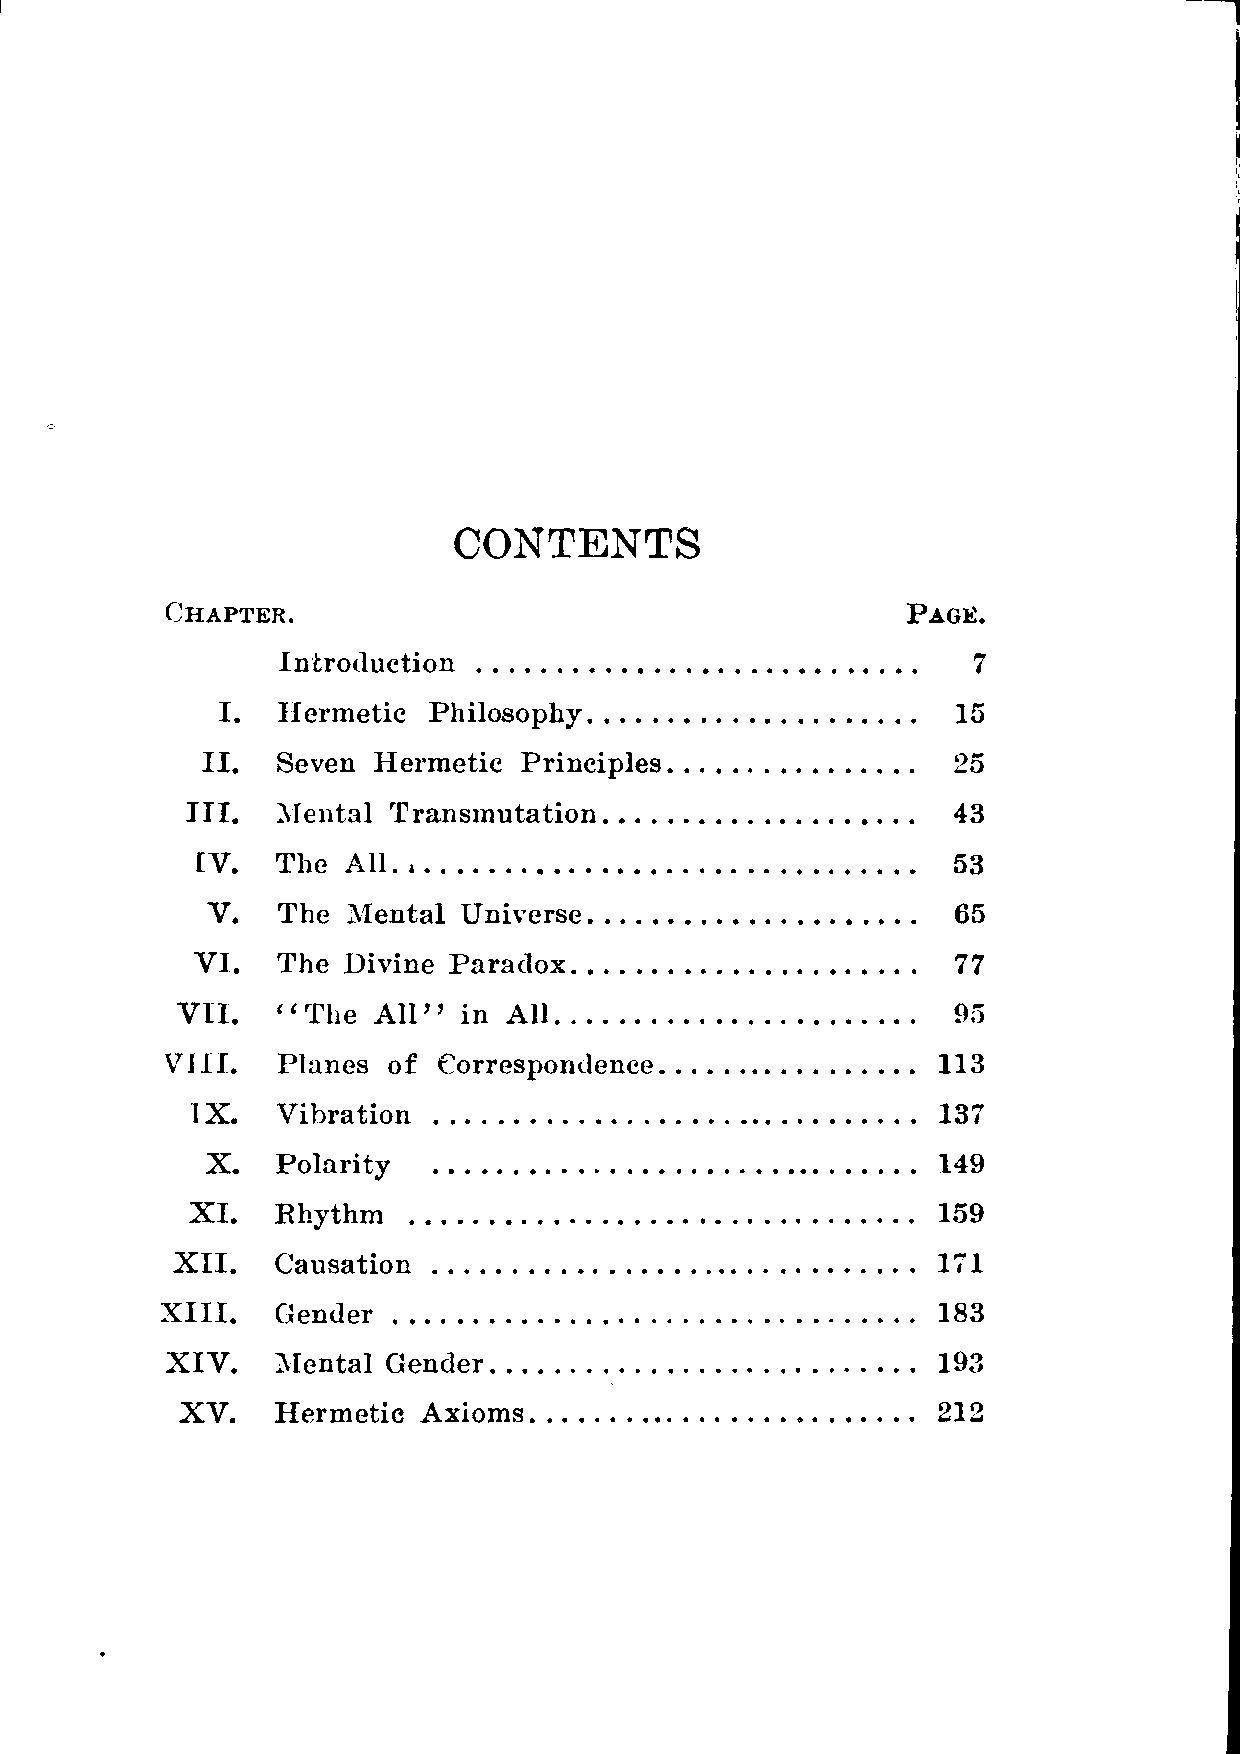TOC_chapter: (162, 1048, 654, 1083), (196, 746, 666, 777), (183, 794, 595, 829), (192, 947, 568, 981), (216, 697, 584, 730), (205, 898, 580, 929), (176, 1397, 527, 1428), (170, 998, 550, 1027), (162, 1346, 487, 1376), (170, 1245, 416, 1282), (158, 1296, 376, 1329), (187, 1197, 385, 1231), (191, 845, 396, 876), (188, 1099, 412, 1127), (204, 1149, 392, 1181), (274, 646, 459, 678)
TOC_pagenumber: (934, 1149, 990, 1180), (935, 1099, 994, 1127), (935, 1397, 990, 1427), (935, 1197, 985, 1227), (934, 1299, 984, 1329), (935, 1347, 986, 1376), (935, 1249, 984, 1276), (935, 1053, 984, 1076), (951, 899, 986, 926), (951, 702, 988, 727), (951, 798, 985, 825), (951, 851, 986, 876), (951, 1001, 986, 1027), (951, 750, 986, 774), (951, 951, 982, 974), (968, 648, 989, 678)
chapter: (450, 523, 701, 564)
